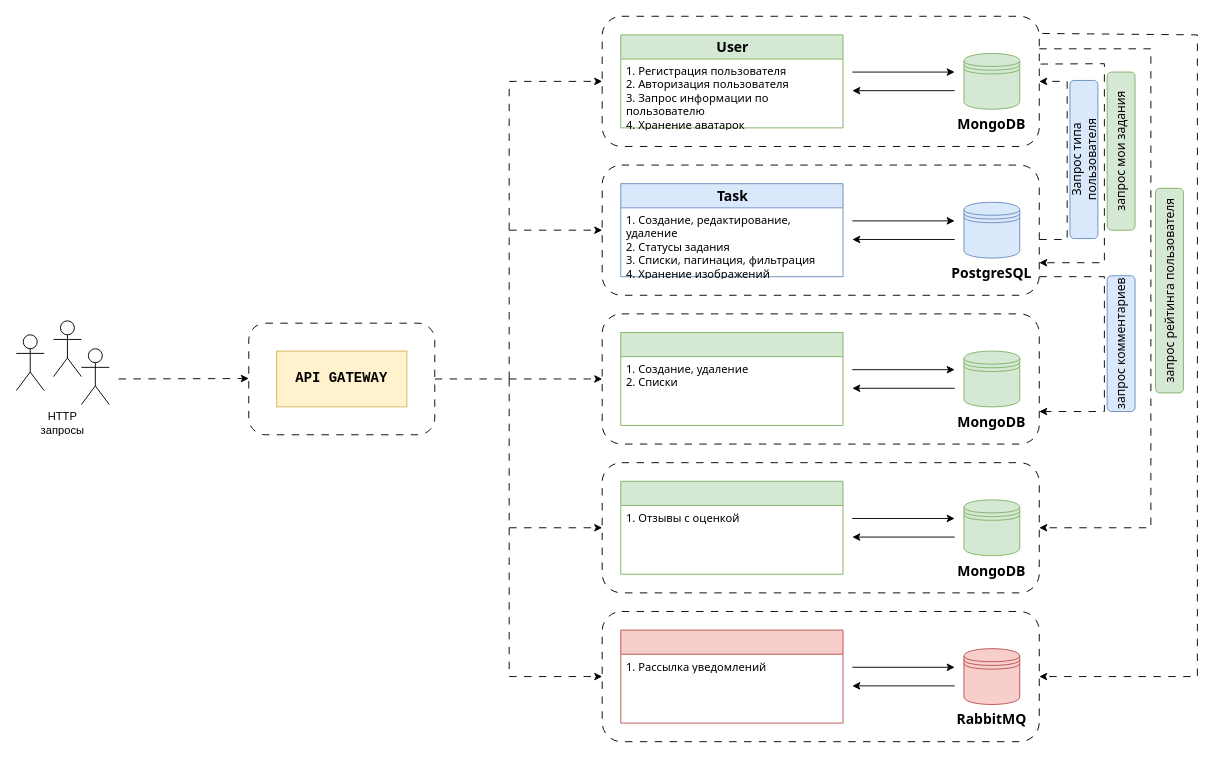
Image size: 1221x758. Some labels were removed from this diagram. The box of each missing label's shape, as (x1, y1, x2, y2) in pixels:
Comment: (620, 332, 843, 425)
Notify: (620, 629, 843, 723)
Review: (620, 480, 843, 574)
